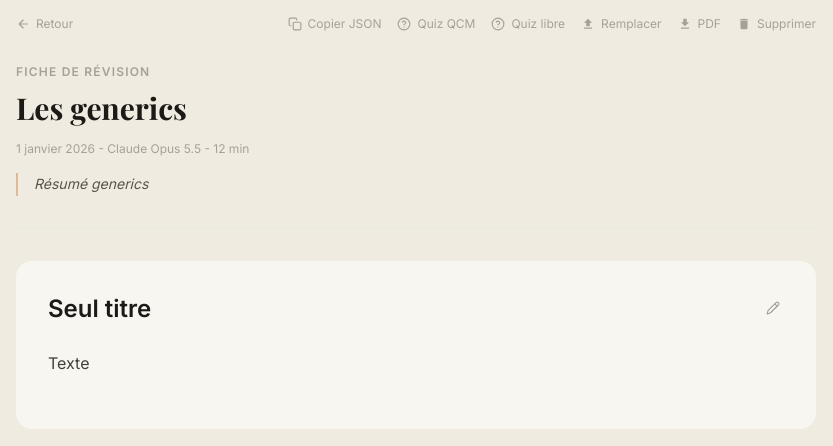
Test case: FlashCardDetailPage copy quiz prompt › copies the mcq quiz prompt from the « Quiz QCM » button only
Click the button "Quiz QCM": (436, 24) [398,16,476,32]
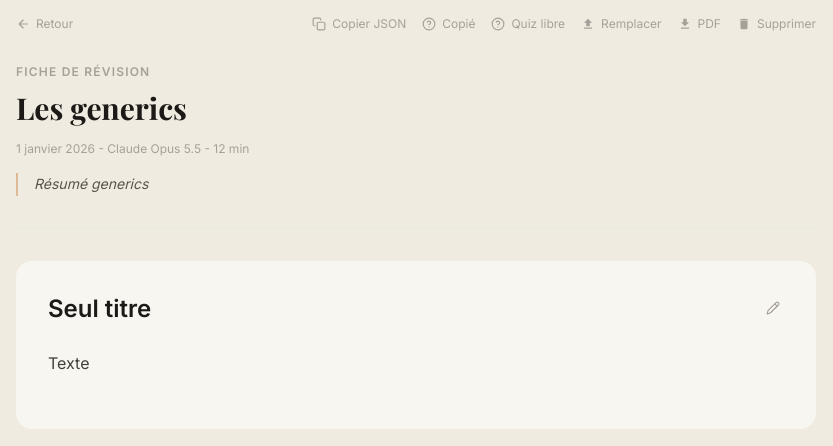
Expected: the button "Quiz libre" is shown, [491,16,565,32]
Now the button "Copié" is shown, box [422,16,475,32]
